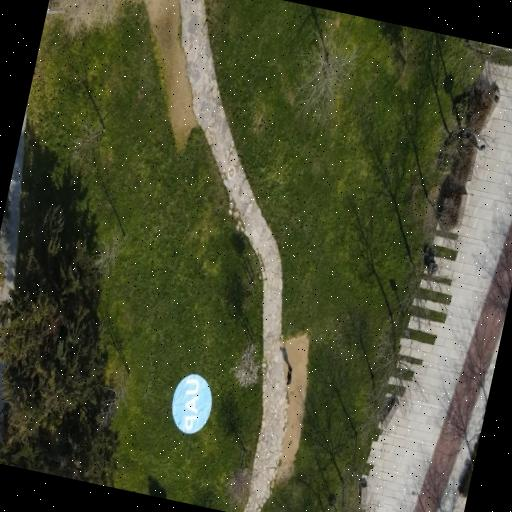UAP: (171, 374, 211, 433)
person: (287, 366, 292, 384)
